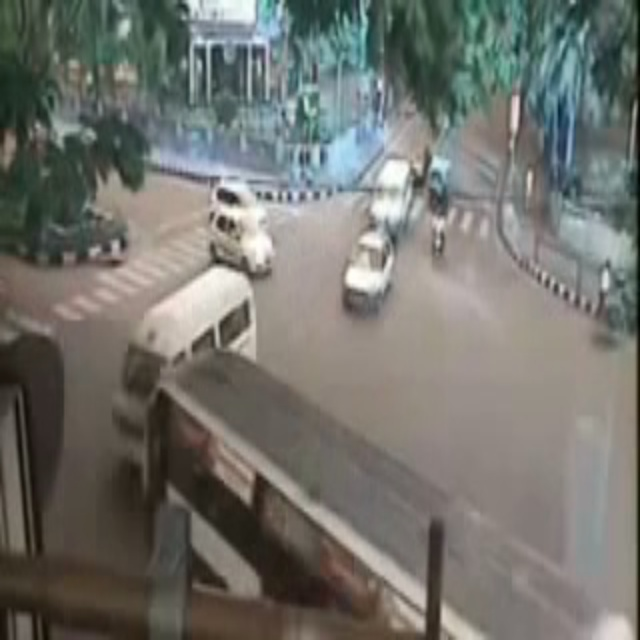acc: (110, 264, 257, 504)
